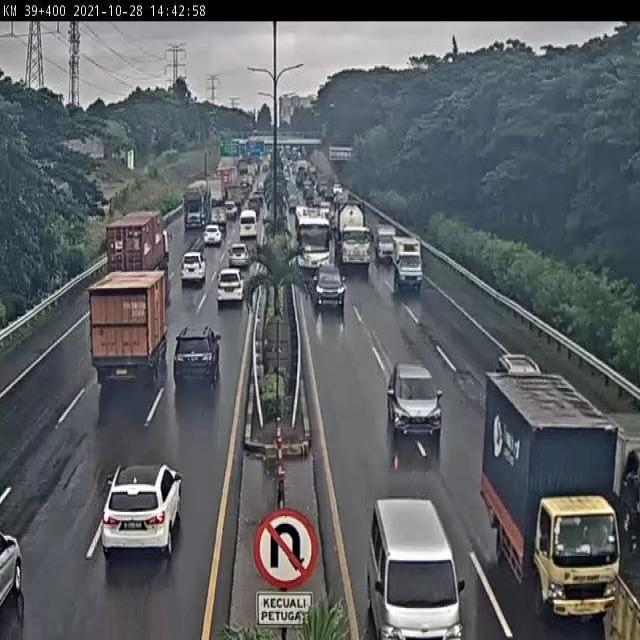car: (368, 494, 466, 640), (101, 463, 182, 556), (388, 361, 444, 448), (495, 355, 553, 419), (174, 326, 223, 390), (314, 267, 346, 317), (217, 265, 246, 308), (181, 249, 208, 287), (228, 239, 247, 264), (203, 224, 222, 247)
truck: (480, 371, 621, 623), (88, 270, 171, 386), (107, 209, 172, 291), (334, 199, 377, 279), (296, 208, 335, 281), (396, 237, 427, 295), (378, 227, 401, 271)
